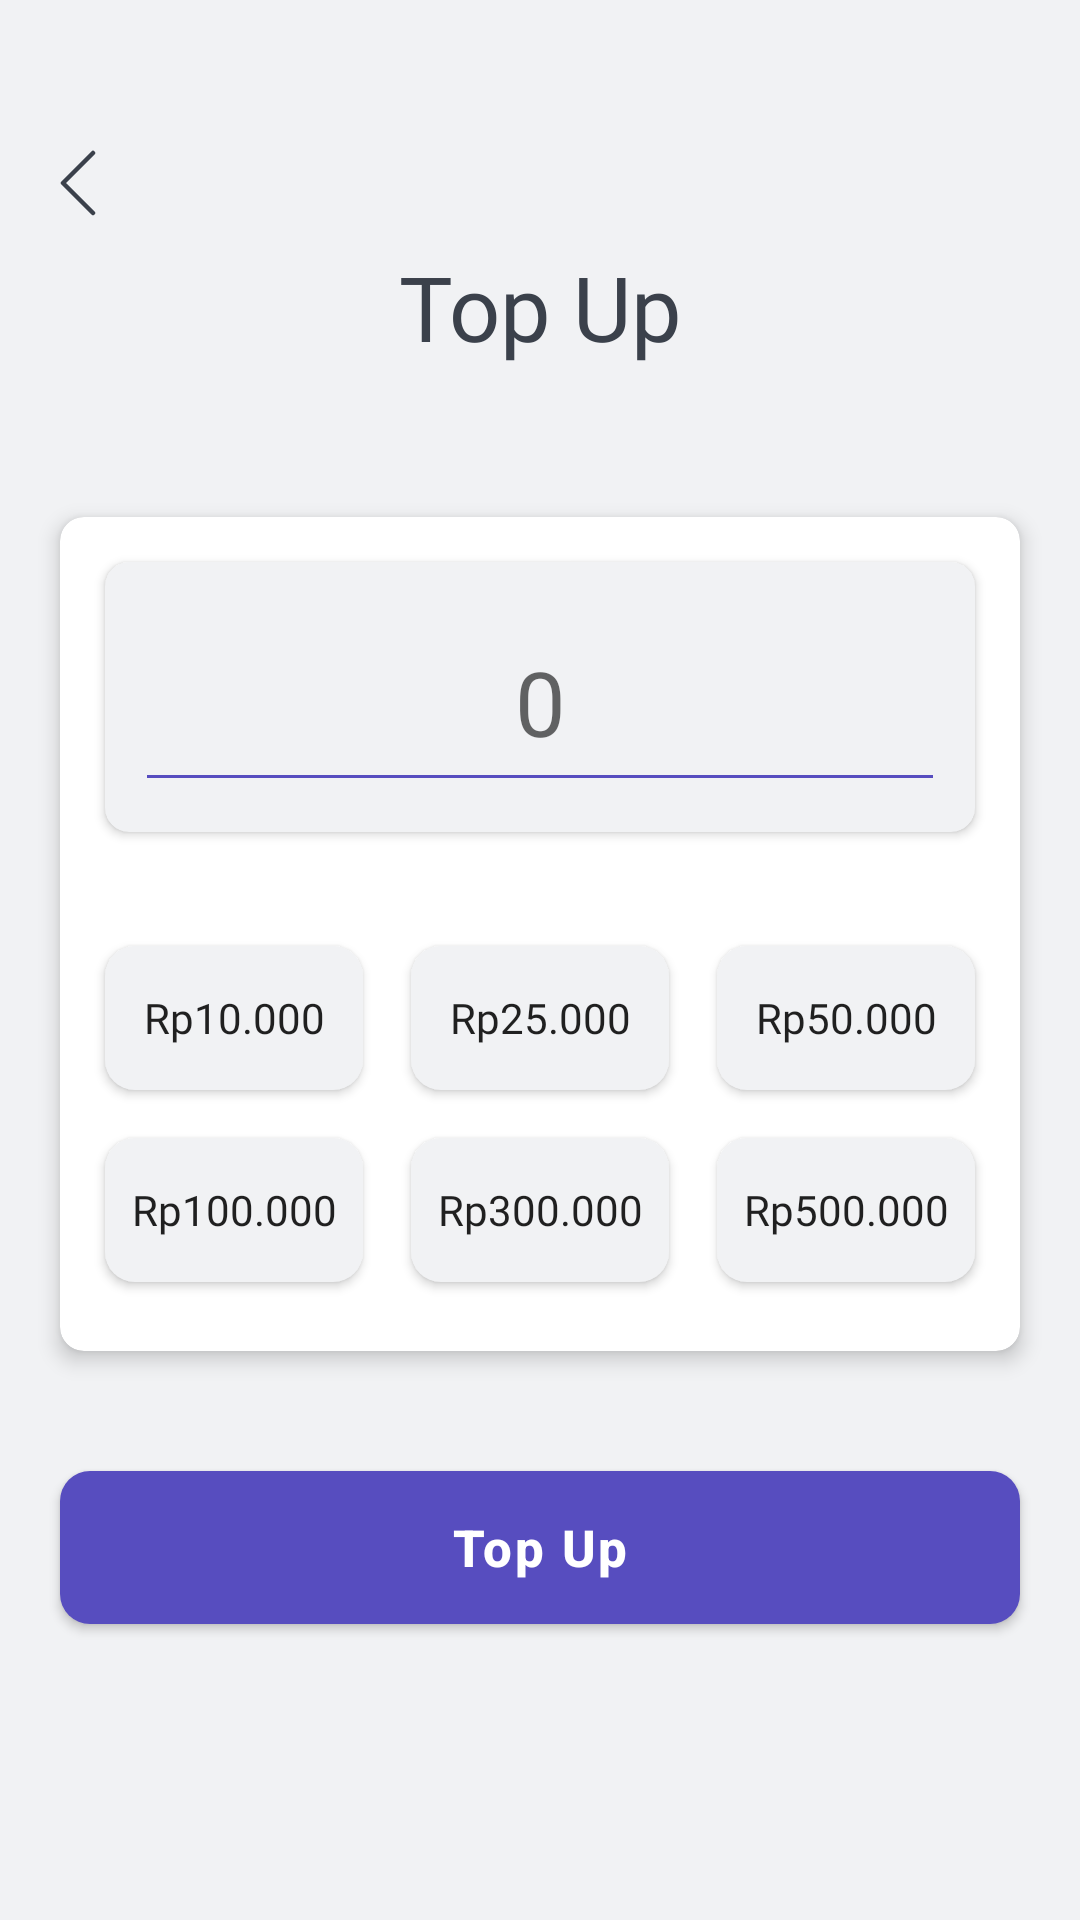

Icons on this 1080px x 1920px Android screen, each with its box as Rect(x1, y1, x2, y2):
arrowleft: Rect(60, 150, 96, 216)
